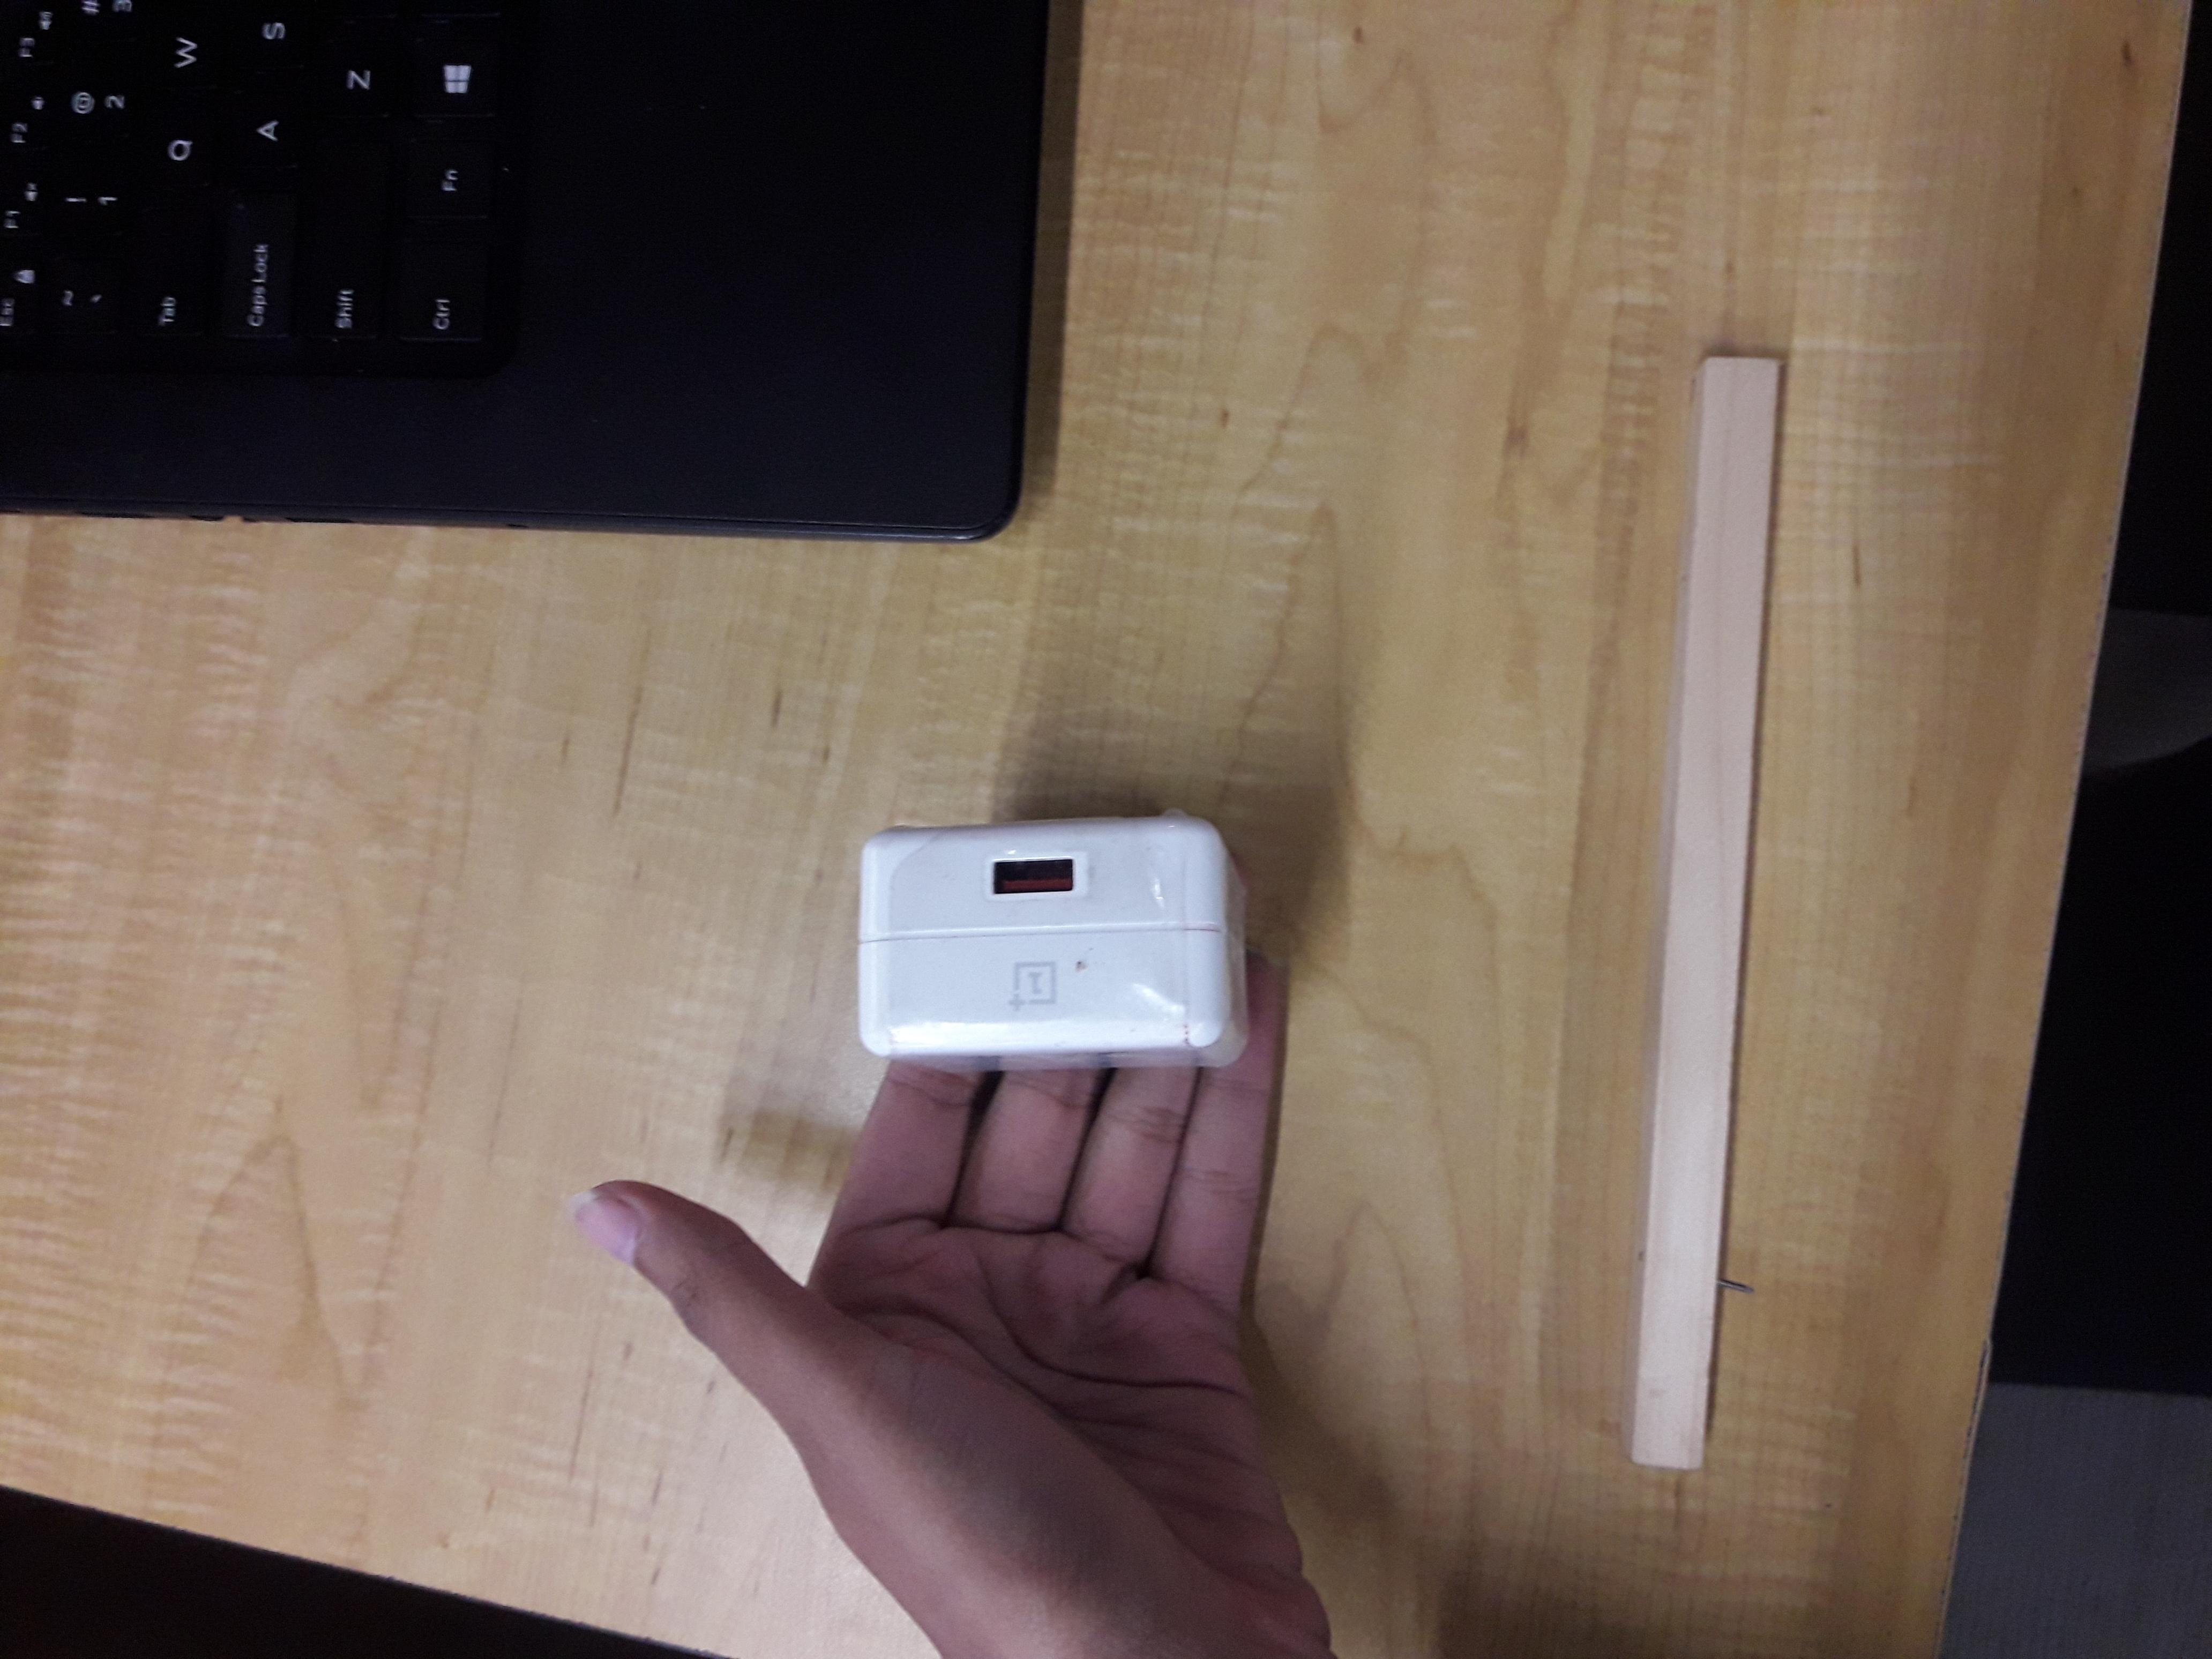object: (860, 816, 1228, 1049)
reference: (1623, 357, 1784, 1467)
